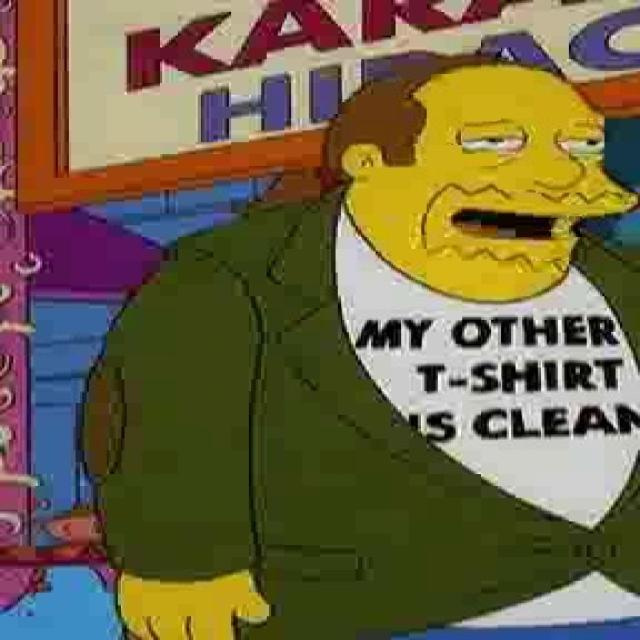Comic Book Guy: (290, 54, 634, 307)
